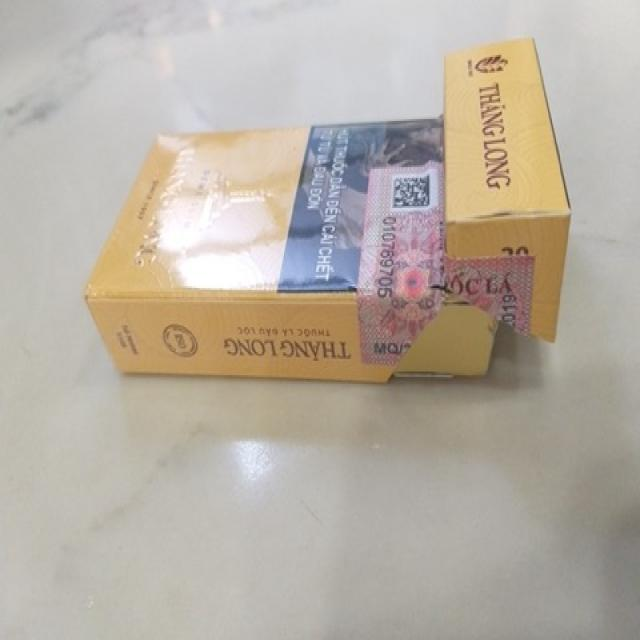PaperCardboard: (80, 31, 577, 394)
